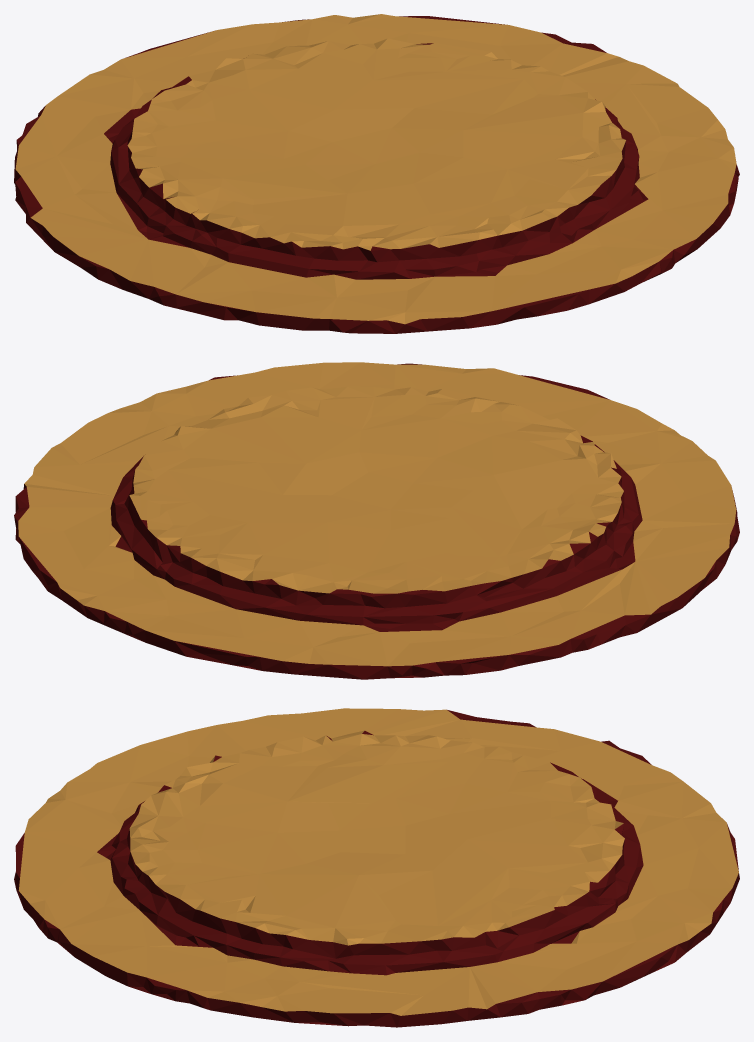
Rendered from level_Bottom_Plinth_modelled.fbx.
3 renders of one model, top to bottom at view 1: azimuth 30°, elevation 25°; view 2: azimuth 150°, elevation 25°; view 3: azimuth 270°, elevation 25°, orthographic.
Parts seen in each view (by area): view 1: level_Bottom_Plinth_modelled; view 2: level_Bottom_Plinth_modelled; view 3: level_Bottom_Plinth_modelled.
Part boxes in pixels (<box>): level_Bottom_Plinth_modelled: <box>14,14,739,333</box>; level_Bottom_Plinth_modelled: <box>14,362,739,679</box>; level_Bottom_Plinth_modelled: <box>14,708,739,1027</box>.
Bounding box in the file's own units: 681 × 41.28 × 681.
